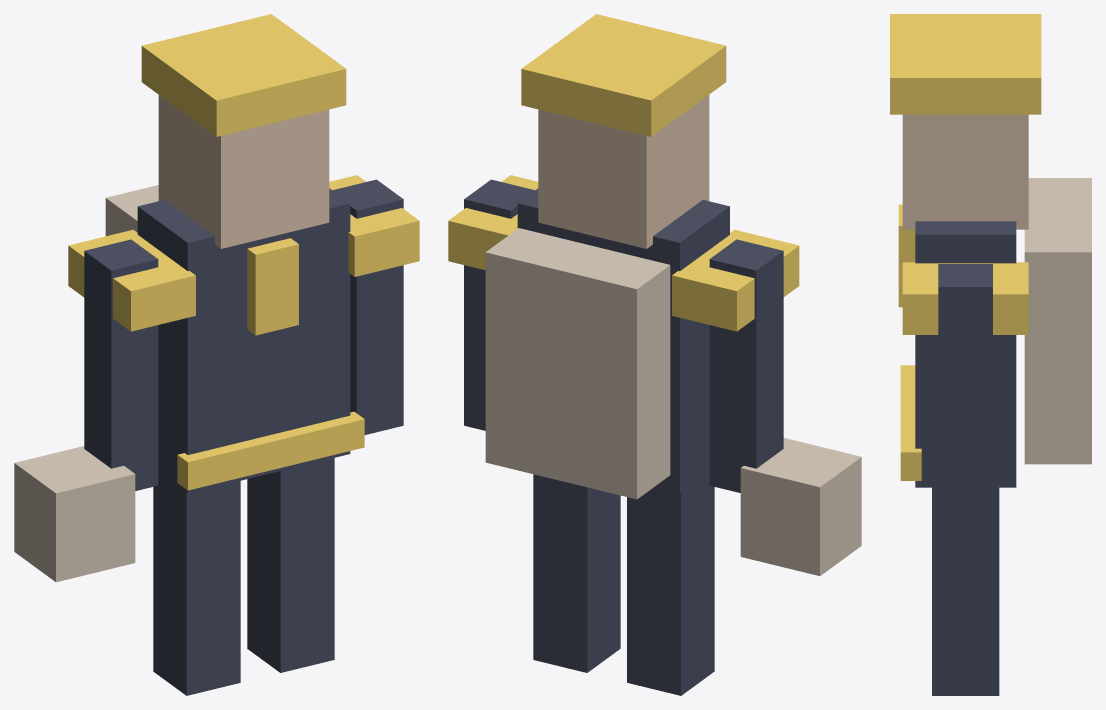
Rendered from 12_ossa_brightlock_courier_from_vendor.glb.
The picture shows the model from 3 angles, left to right: view 1: azimuth 30°, elevation 25°; view 2: azimuth 150°, elevation 25°; view 3: azimuth 270°, elevation 25°; orthographic projection.
Visible parts, largest first — view 1: Ossa Brightlock, Courier from Vendor; view 2: Ossa Brightlock, Courier from Vendor; view 3: Ossa Brightlock, Courier from Vendor.
Boxes of the visible parts, x1,y1,x2,y2 form: Ossa Brightlock, Courier from Vendor: (14,14,419,695); Ossa Brightlock, Courier from Vendor: (448,14,861,695); Ossa Brightlock, Courier from Vendor: (890,14,1091,695).
Bounding box in the file's own units: 1.03 × 1.67 × 0.4975.
